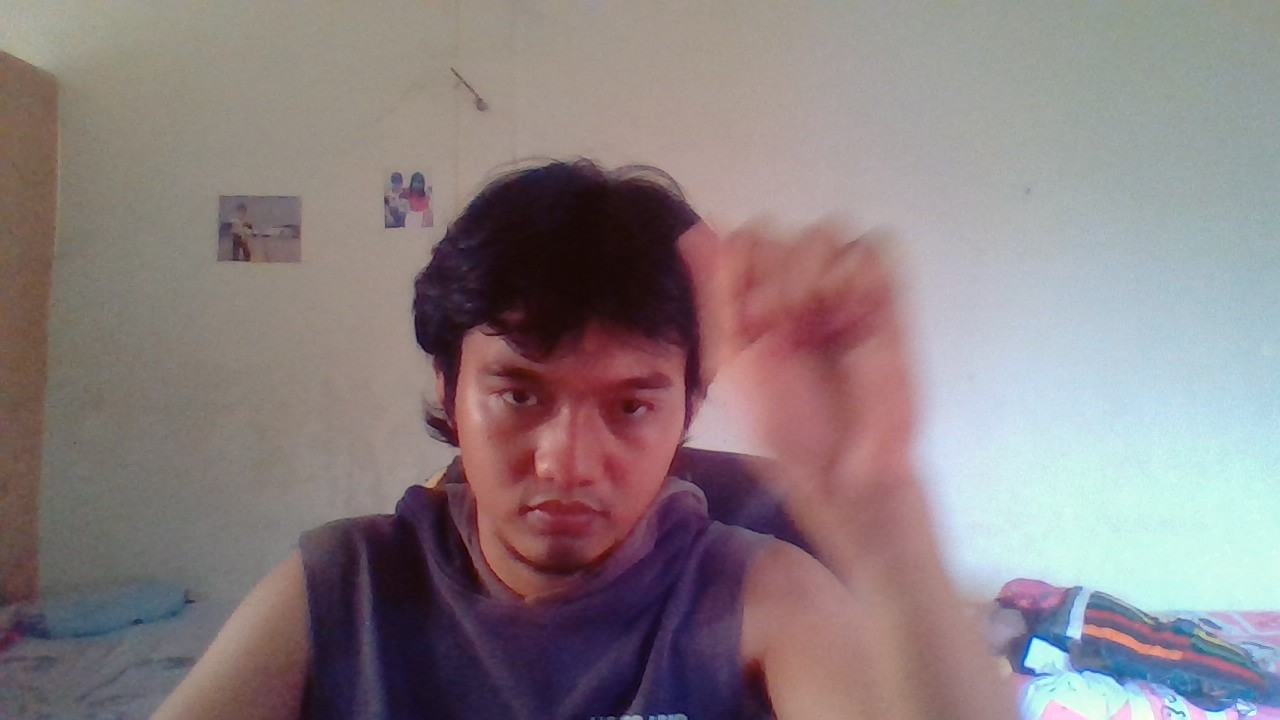A: (671, 201, 948, 520)
